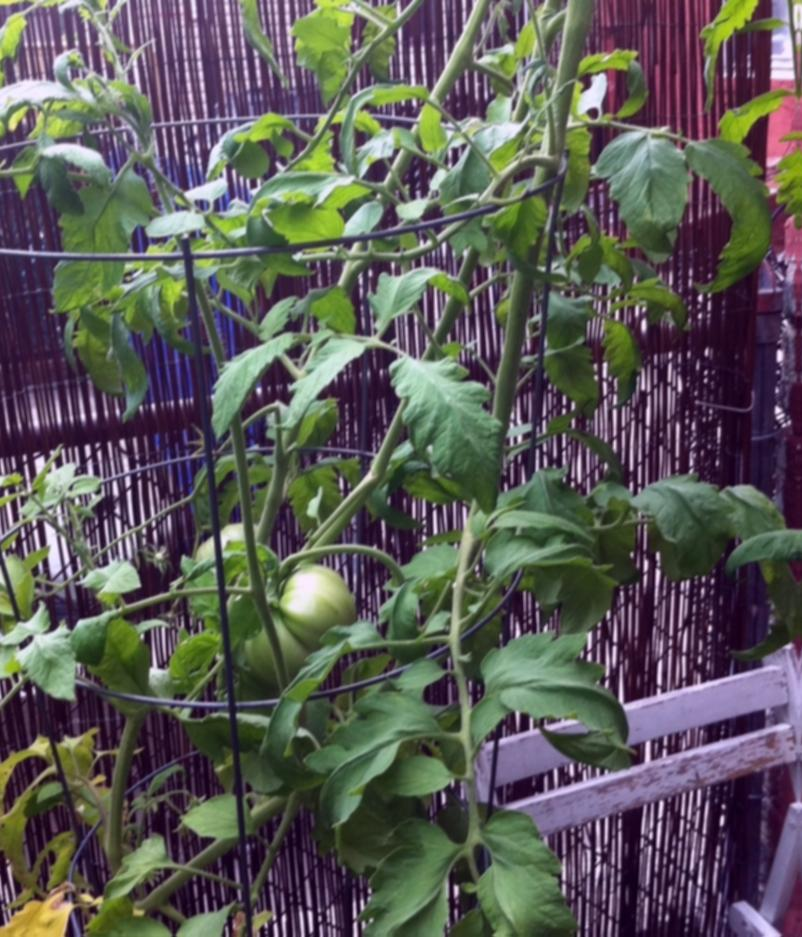Tomato leaf: (379, 343, 511, 498), (587, 130, 694, 291), (37, 172, 141, 328), (211, 325, 315, 445), (488, 647, 628, 734), (360, 843, 454, 937), (479, 859, 573, 937)
